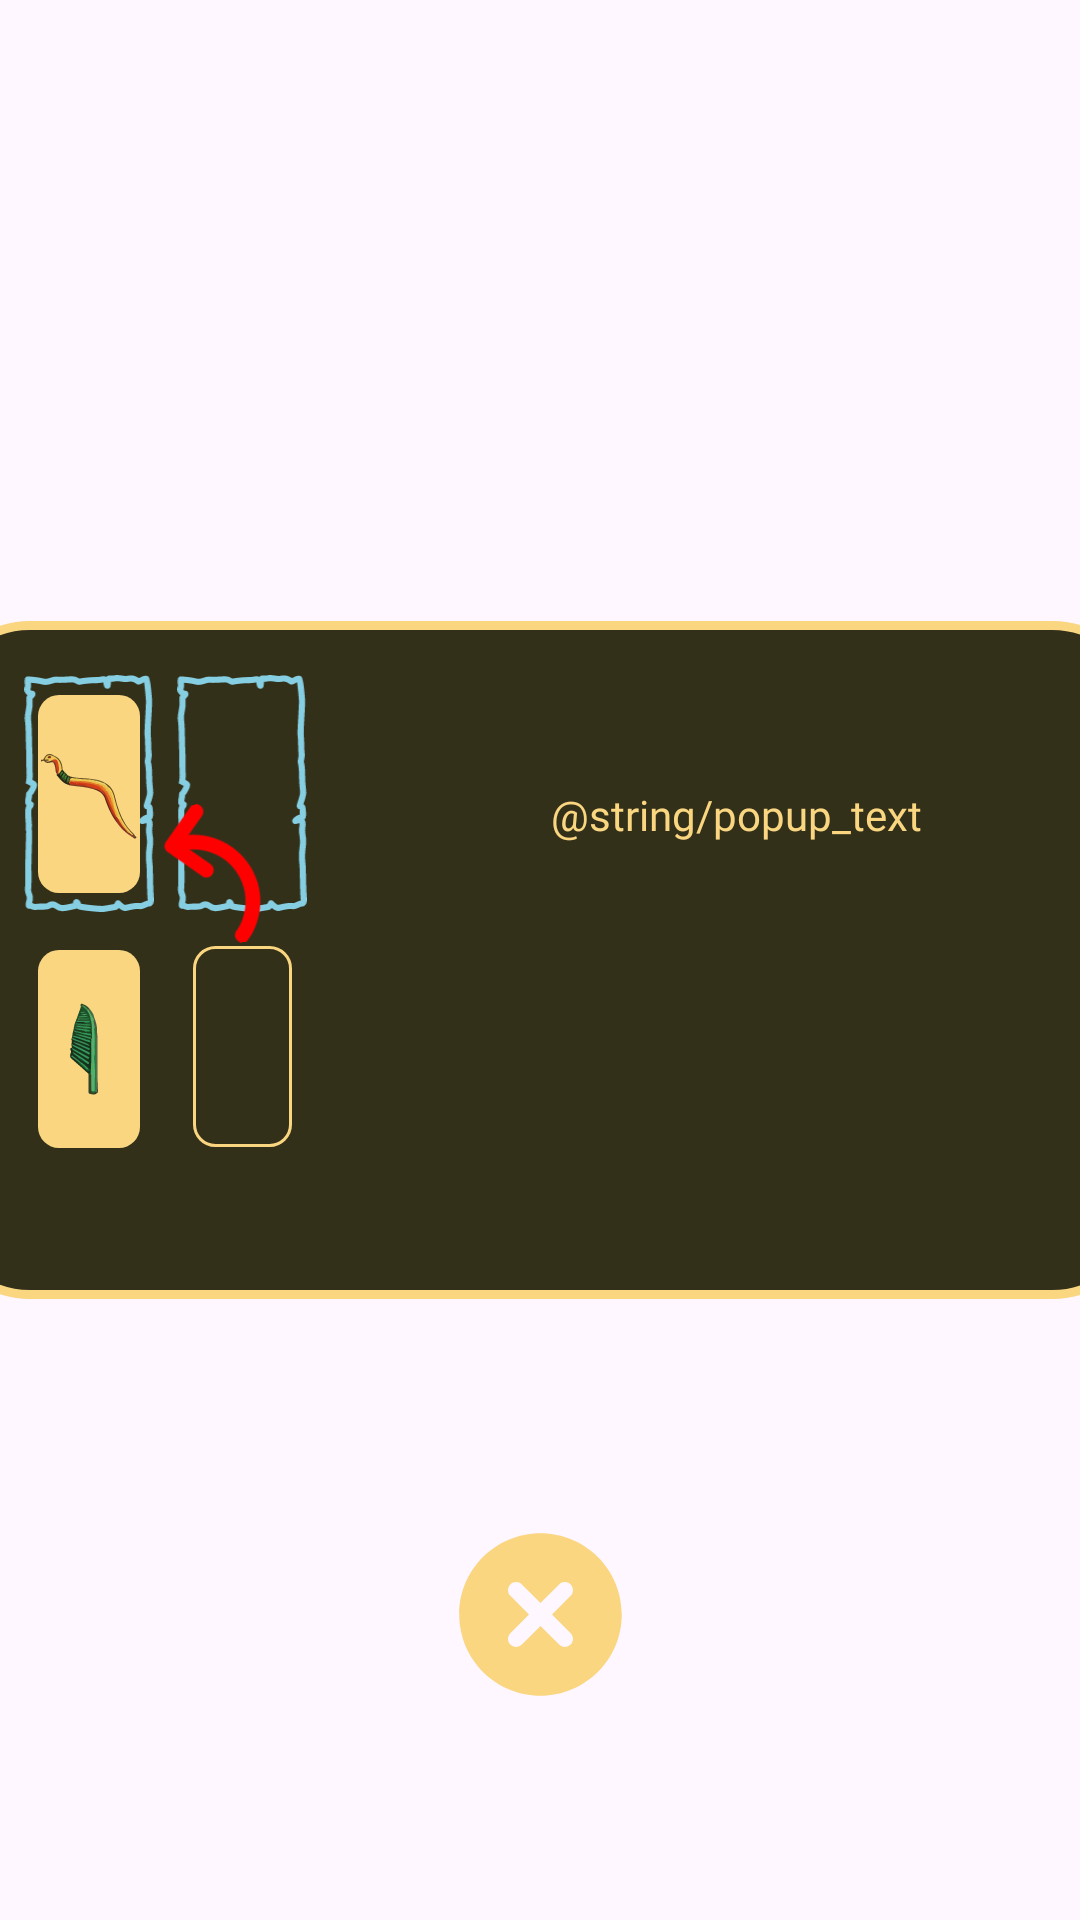

Named icons in this screenshot (1080 × 1920) and their centers, [x,y]:
close: [540,1614]
slot border: [89,793], [235,793]
